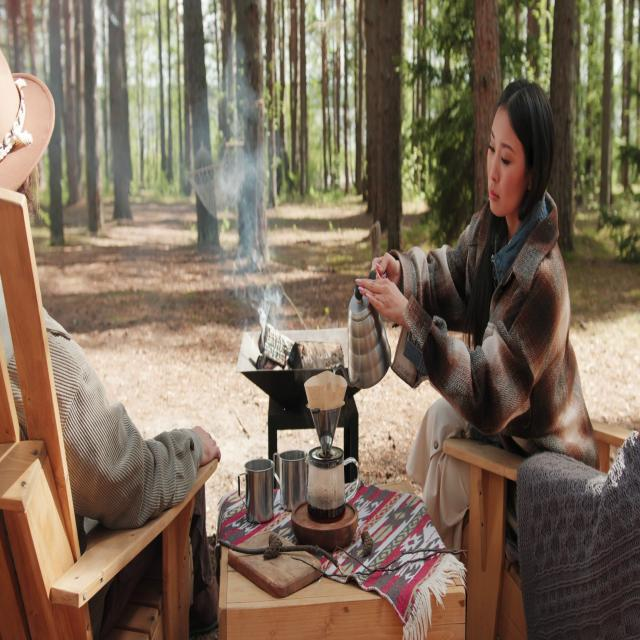Smoke: (166, 44, 286, 348)
